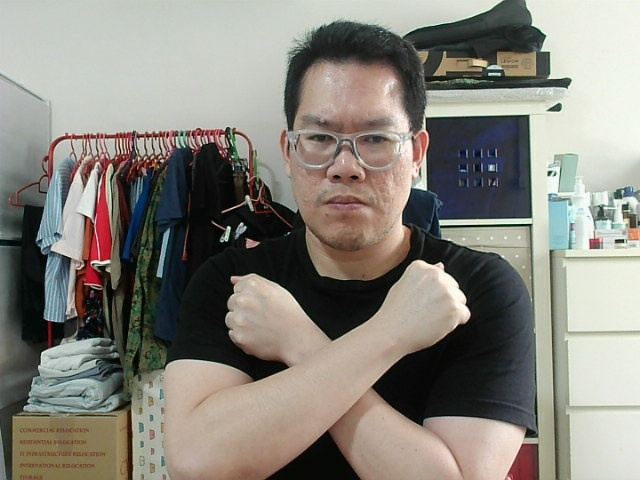love: (390, 266, 466, 331)
